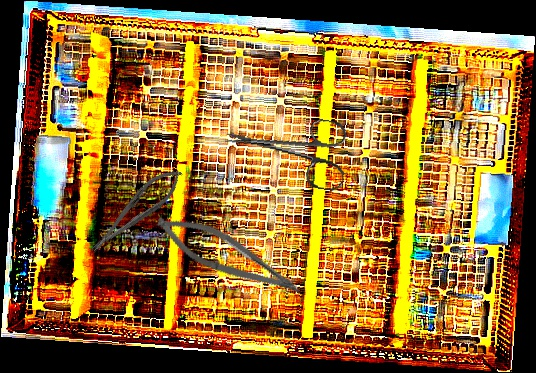Iris Scissors: (219, 104, 352, 193)
Micro Scissor: (148, 205, 312, 306)
Needle Holder: (82, 160, 190, 261)
